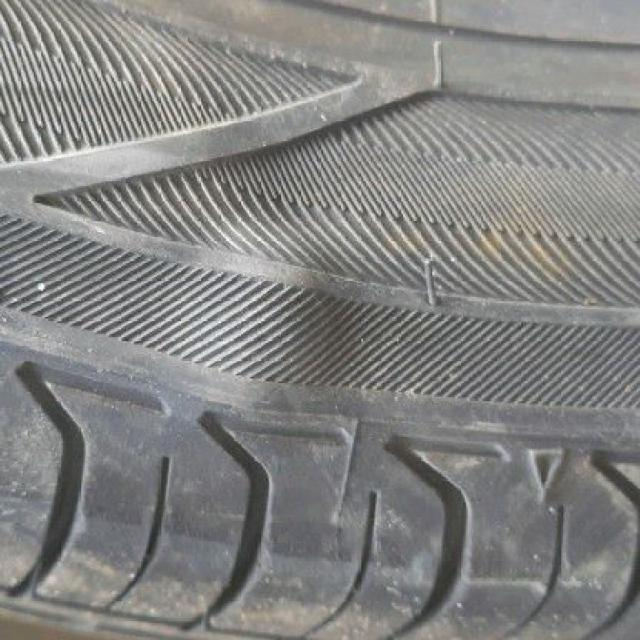Bulge: (183, 212, 365, 432)
